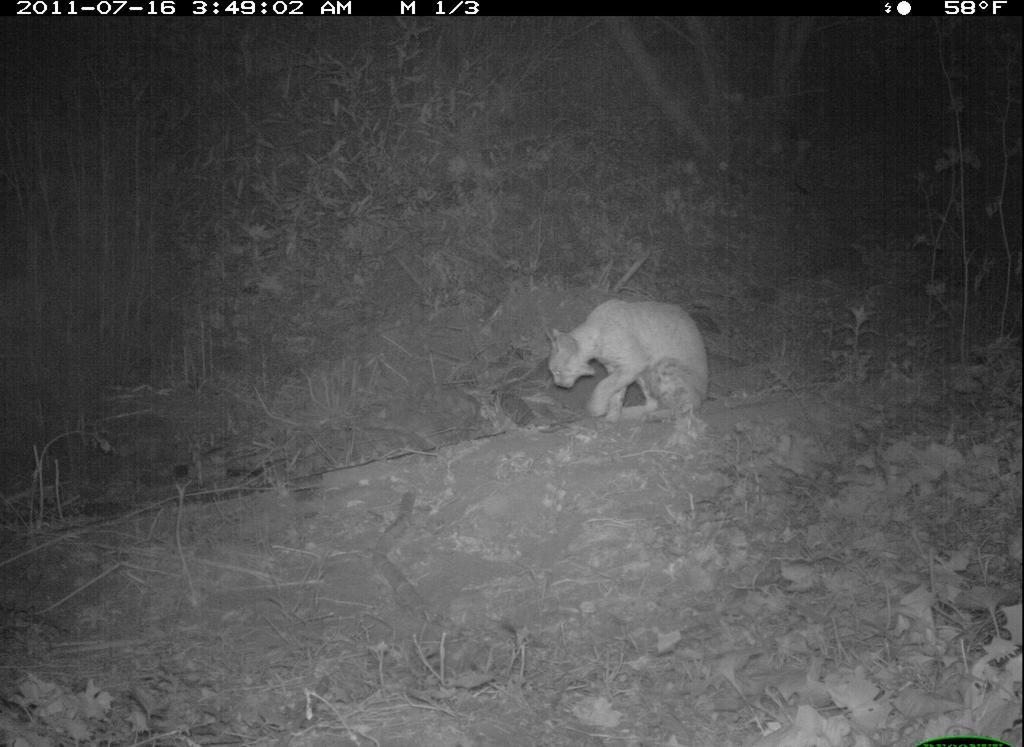bobcat: (532, 295, 740, 454)
